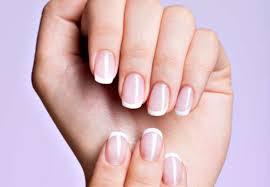hand: (17, 2, 248, 183)
